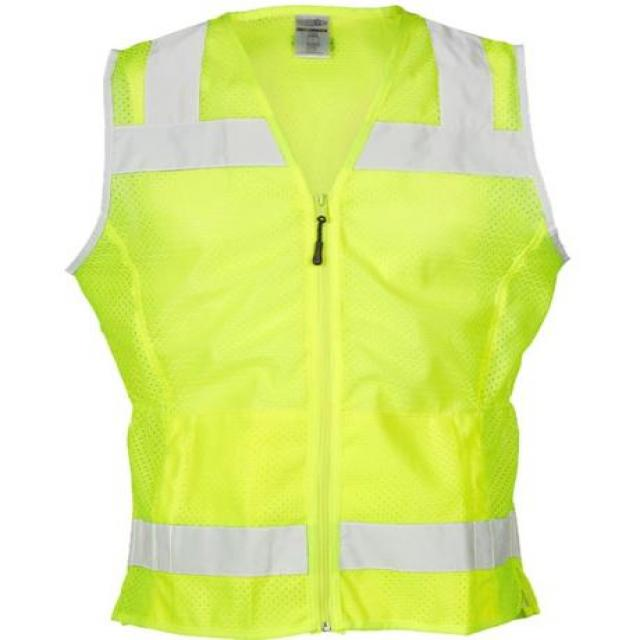Reflective-Jacket: (13, 0, 608, 640)
